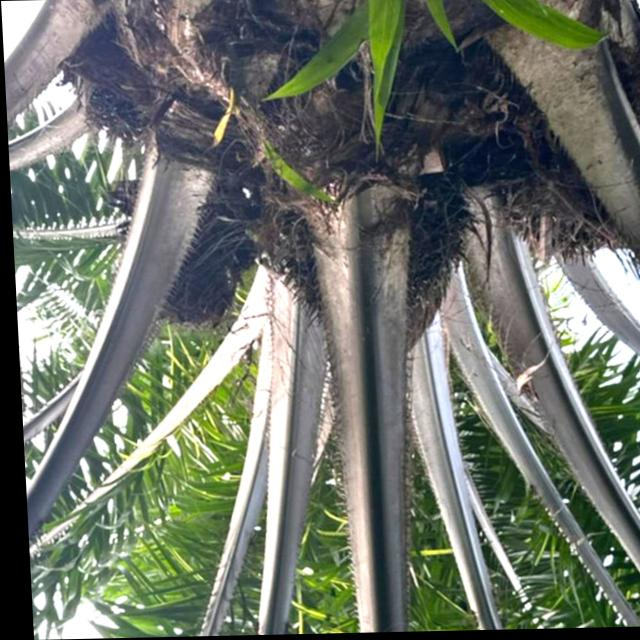unripe: (256, 155, 492, 383)
